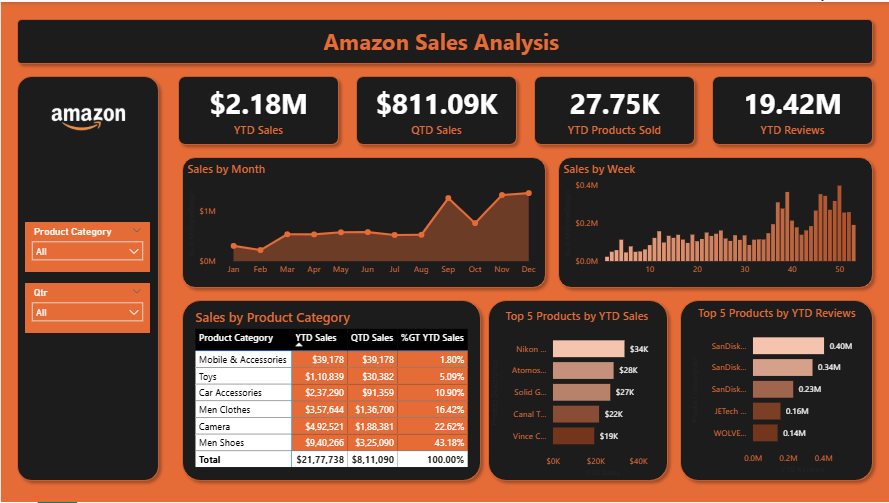

The page's visual inventory and layout, read from the dashboard file:
{"tool":"powerbi","page":{"name":"Page 1","canvas":[1280,720],"ordinal":0},"visuals":[{"type":"shape","box":[14.4,15.8,1249.9,82.1],"z":0},{"type":"textbox","box":[459.4,28.8,360,56.2],"z":1000},{"type":"shape","box":[14.4,97.9,221.8,600.5],"z":2000},{"type":"shape","box":[246.2,97.9,249.1,116.6],"z":3000},{"type":"card","fields":{"Values":["Amazon_Data.YTD Sales"]},"box":[266.4,108,208.8,96.5],"z":4000},{"type":"shape","box":[502.6,97.9,249.1,116.6],"z":5000},{"type":"shape","box":[1015.2,97.9,249.1,116.6],"z":6000},{"type":"shape","box":[758.9,97.9,249.1,116.6],"z":7000},{"type":"card","fields":{"Values":["Amazon_Data.QTD Sales"]},"box":[522.7,108,208.8,96.5],"z":8000},{"type":"card","fields":{"Values":["Amazon_Data.YTD Products Sold"]},"box":[779,108,208.8,96.5],"z":9000},{"type":"card","fields":{"Values":["Amazon_Data.YTD Reviews"]},"box":[1035.4,108,208.8,96.5],"z":10000},{"type":"shape","box":[252,214.6,541.4,205.9],"z":11000},{"type":"areaChart","title":"Sales by Month","fields":{"Category":["Date Table.Month Name"],"Y":["Sum(Amazon_Data.Price(Dollar))"]},"box":[263.5,229,517,174.2],"z":12000},{"type":"shape","box":[793.4,214.6,470.9,205.9],"z":13000},{"type":"columnChart","title":"Sales by Week","fields":{"Category":["Date Table.Week"],"Y":["Sum(Amazon_Data.Price(Dollar))"]},"box":[805,229,449.3,174.2],"z":14000},{"type":"shape","box":[252,420.5,447.8,277.9],"z":15000},{"type":"pivotTable","title":"Sales by Product Category ","fields":{"Rows":["Amazon_Data.Product Category"],"Values":["Amazon_Data.YTD Sales1","Amazon_Data.QTD Sales","Amazon_Data.YTD Sales"]},"box":[275,440.6,403.2,237.6],"z":16000},{"type":"shape","box":[692.6,420.5,276.5,277.9],"z":17000},{"type":"shape","box":[969.1,420.5,295.2,277.9],"z":18000},{"type":"clusteredBarChart","title":"Top 5 Products by YTD Sales","fields":{"Category":["Amazon_Data.Product Description"],"Y":["Amazon_Data.YTD Sales"]},"box":[699.8,440.6,259.2,247.7],"z":19000},{"type":"clusteredBarChart","title":"Top 5 Products by YTD Reviews","fields":{"Category":["Amazon_Data.Product Description"],"Y":["Amazon_Data.YTD Reviews"]},"box":[987.8,436.3,259.2,247.7],"z":20000},{"type":"slicer","fields":{"Values":["Amazon_Data.Product Category"]},"box":[34.6,316.8,180,72],"z":21000},{"type":"slicer","fields":{"Values":["Date Table.Qtr"]},"box":[34.6,404.6,180,72],"z":22000},{"type":"image","box":[7.2,108,236.2,129.6],"z":23000}]}

Visuals, with their boxes in screenshot pixels (x1, y1, x2, y2), scaled from the page's 1280x720 canvas onto the 889x503 screenshot:
shape: (left=10, top=11, right=878, bottom=68)
textbox: (left=319, top=20, right=569, bottom=59)
shape: (left=10, top=68, right=164, bottom=488)
shape: (left=171, top=68, right=344, bottom=150)
card - Amazon_Data.YTD Sales: (left=185, top=75, right=330, bottom=143)
shape: (left=349, top=68, right=522, bottom=150)
shape: (left=705, top=68, right=878, bottom=150)
shape: (left=527, top=68, right=700, bottom=150)
card - Amazon_Data.QTD Sales: (left=363, top=75, right=508, bottom=143)
card - Amazon_Data.YTD Products Sold: (left=541, top=75, right=686, bottom=143)
card - Amazon_Data.YTD Reviews: (left=719, top=75, right=864, bottom=143)
shape: (left=175, top=150, right=551, bottom=294)
"Sales by Month" areaChart: (left=183, top=160, right=542, bottom=282)
shape: (left=551, top=150, right=878, bottom=294)
"Sales by Week" columnChart: (left=559, top=160, right=871, bottom=282)
shape: (left=175, top=294, right=486, bottom=488)
"Sales by Product Category " pivotTable: (left=191, top=308, right=471, bottom=474)
shape: (left=481, top=294, right=673, bottom=488)
shape: (left=673, top=294, right=878, bottom=488)
"Top 5 Products by YTD Sales" clusteredBarChart: (left=486, top=308, right=666, bottom=481)
"Top 5 Products by YTD Reviews" clusteredBarChart: (left=686, top=305, right=866, bottom=478)
slicer - Amazon_Data.Product Category: (left=24, top=221, right=149, bottom=272)
slicer - Date Table.Qtr: (left=24, top=283, right=149, bottom=333)
image: (left=5, top=75, right=169, bottom=166)
